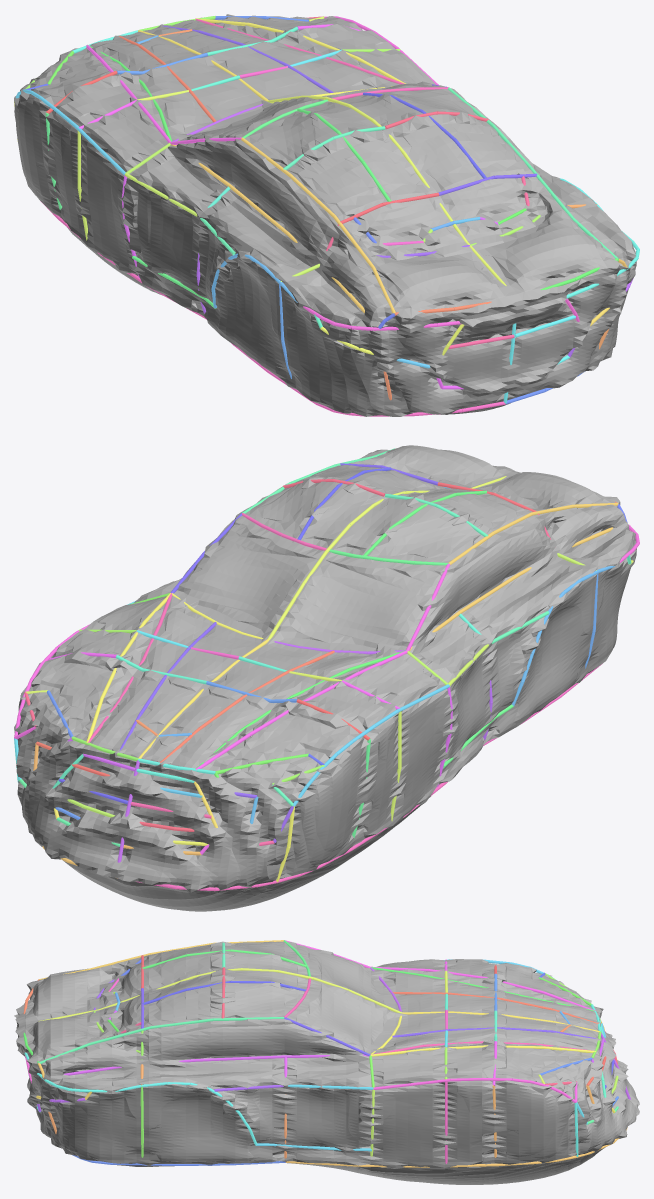
File: ils_car5.gltf
3 views of the same model, one above another, from view 1: azimuth 30°, elevation 25°; view 2: azimuth 150°, elevation 25°; view 3: azimuth 270°, elevation 25° (orthographic). The views are drawn at different scales.
Size of the model in its own units: 0.4229 by 0.3243 by 0.902.
